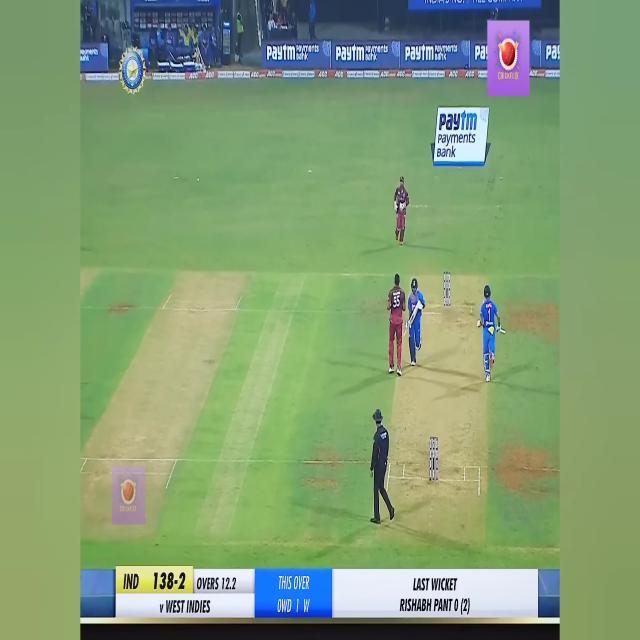fully_visible: (438, 109, 478, 134), (335, 38, 366, 66), (264, 45, 297, 69), (403, 44, 436, 68)
